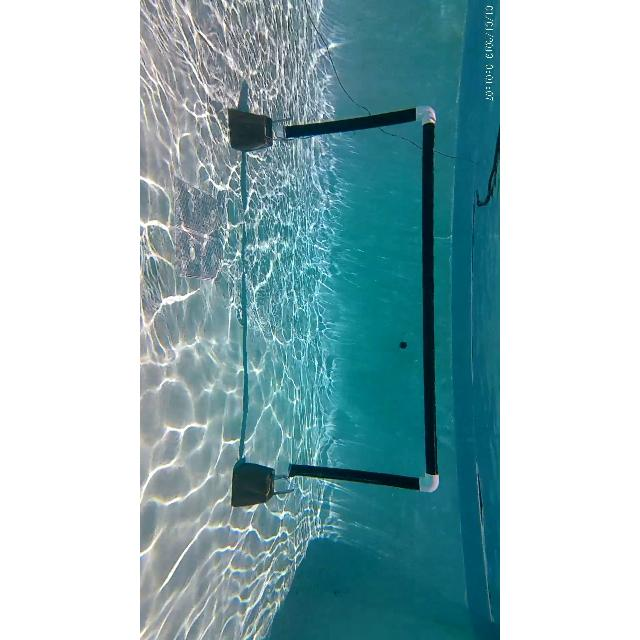prequal gate: (284, 105, 436, 491)
prequal gate leg l: (230, 107, 434, 151)
prequal gate leg r: (232, 457, 440, 508)
